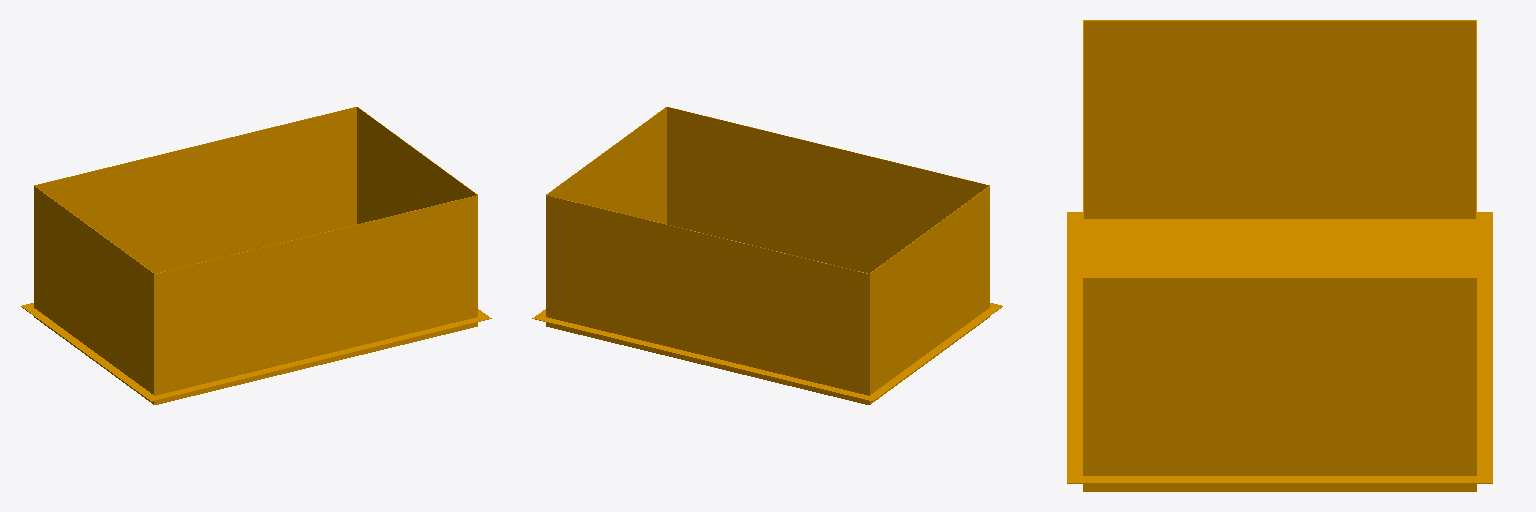
robot.urdf — big_box:
<robot name="big_box">
  <material name="grey">
    <color rgba=".5 .5 .5 1"/>
  </material>
  <link name="base_link">
    <inertial>
      <origin xyz="0.0 0.0 0.0" rpy="0 0 0" />
      <mass value="0.6"/>
      <inertia ixx="0.001" ixy="0.0" ixz="0.0"
	       iyy="0.001" iyz="0.0"
	       izz="0.001" />
    </inertial>
    <visual>
      <origin xyz="0 0 0.0155" rpy="0 0 0" />
      <geometry>
        <box size="0.597 0.397 0.001"/>
      </geometry>
      <color name="grey"/>
    </visual>
    <collision>
      <origin xyz="0 0 0.0155" rpy="0 0 0" />
      <geometry>
        <box size="0.597 0.397 0.001"/>
      </geometry>
    </collision>
    <visual>
      <origin xyz="0 0.1835 0.11"/>
      <geometry>
        <box size="0.567 0.001 0.22"/>
      </geometry>
      <color name="grey"/>
    </visual>
    <collision>
      <origin xyz="0 0.1835 0.11"/>
      <geometry>
        <box size="0.567 0.001 0.22"/>
      </geometry>
    </collision>
    <visual>
      <origin xyz="0 -0.1835 0.11"/>
      <geometry>
        <box size="0.567 0.001 0.22"/>
      </geometry>
      <color name="grey"/>
    </visual>
    <collision>
      <origin xyz="0 -0.1835 0.11"/>
      <geometry>
        <box size="0.567 0.001 0.22"/>
      </geometry>
    </collision>
    <visual>
      <origin xyz="0.2835 0 0.11"/>
      <geometry>
        <box size="0.001 0.367 0.22"/>
      </geometry>
      <color name="grey"/>
    </visual>
    <collision>
      <origin xyz="0.2835 0 0.11"/>
      <geometry>
        <box size="0.001 0.367 0.22"/>
      </geometry>
    </collision>
    <visual>
      <origin xyz="-0.2835 0 0.11"/>
      <geometry>
        <box size="0.001 0.367 0.22"/>
      </geometry>
      <color name="grey"/>
    </visual>
    <collision>
      <origin xyz="-0.2835 0 0.11"/>
      <geometry>
        <box size="0.001 0.367 0.22"/>
      </geometry>
    </collision>
  </link>
</robot>

--- Render facts (derived) ---
3 views of the same robot in one strip: view 1: azimuth 30°, elevation 25°; view 2: azimuth 150°, elevation 25°; view 3: azimuth 270°, elevation 25° (orthographic).
Robot: big_box — 1 links, 0 joints (none); root link base_link; default pose: all joints at 0.
Visible links, largest first — view 1: base_link; view 2: base_link; view 3: base_link.
Boxes of the visible links, x1,y1,x2,y2 form: base_link: (21,107,491,404); base_link: (532,107,1002,404); base_link: (1067,20,1492,491).
Bounding box of the posed robot: 0.597 × 0.397 × 0.22 m (x, y, z).
Geometry: primitives only (box / cylinder / sphere), no mesh files.
